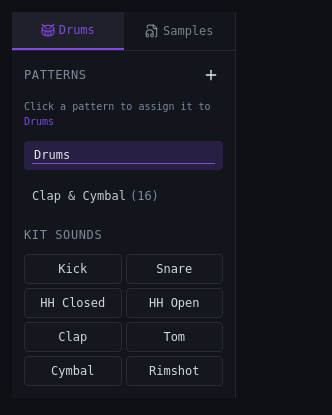
Test case: InstrumentSidebar › renames a pattern via the pencil button
This screenshot has width=332, height=415.
Earlier steps of the test are not shown.
Replace the text in the field with test id "pattern-name-input-default-pattern" with "Main Groove" at (124, 156), box top-left (32, 147), bottom-right (215, 164)
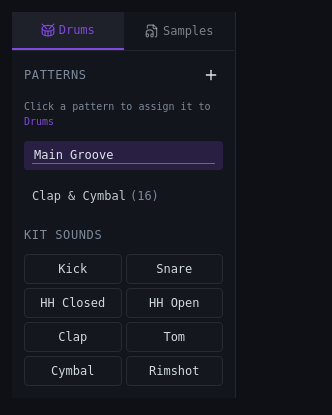
Press Enter in the field with test id "pattern-name-input-default-pattern", box top-left (32, 147), bottom-right (215, 164)
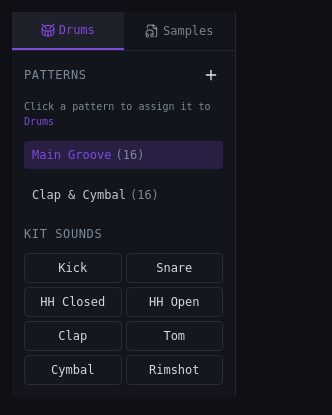
Check: the text "Main Groove" is shown, box top-left (32, 148), bottom-right (112, 162)
